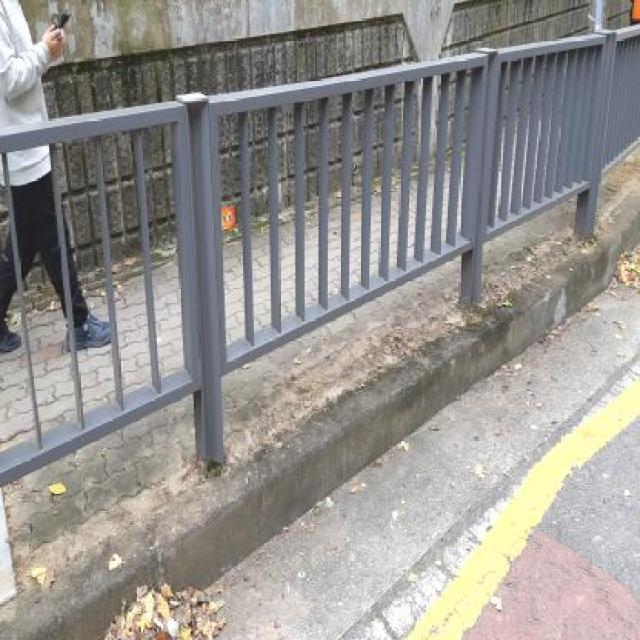fence: (184, 33, 640, 358), (0, 69, 257, 509)
